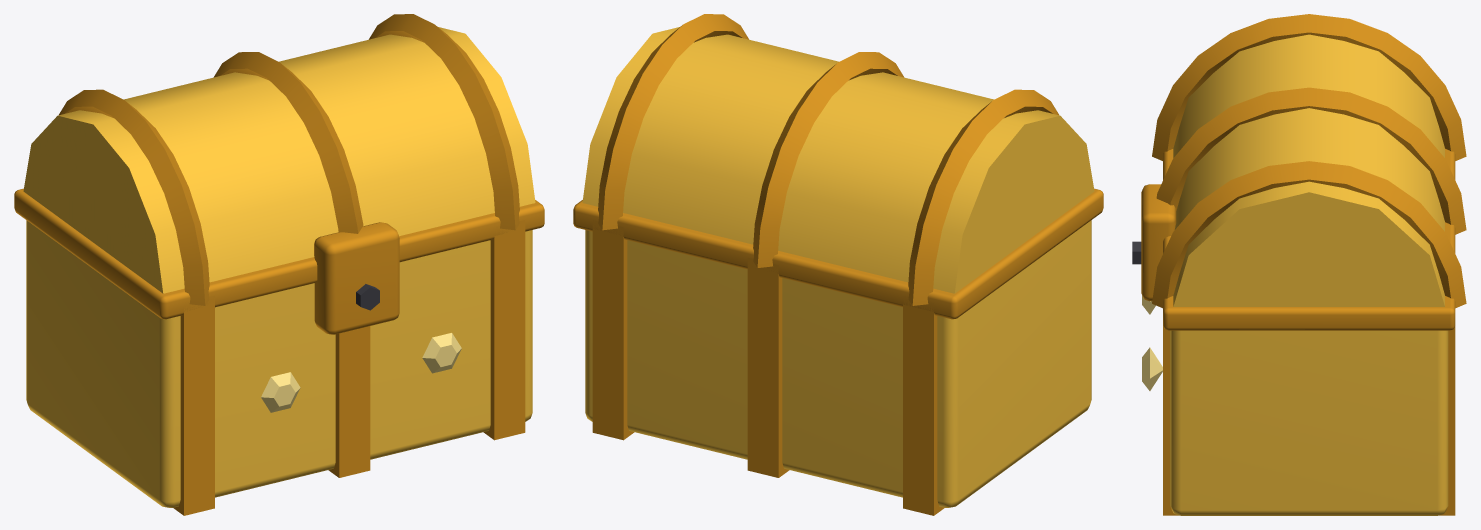
Rendered from GoldChest.fbx.
3 renders of one model, left to right at view 1: azimuth 30°, elevation 25°; view 2: azimuth 150°, elevation 25°; view 3: azimuth 270°, elevation 25°, orthographic. The views are drawn at different scales.
Visible parts, largest first — view 1: GoldChest; view 2: GoldChest; view 3: GoldChest.
Part boxes in pixels (x1,y1,x2,y2): GoldChest: [14, 14, 544, 515]; GoldChest: [573, 14, 1103, 515]; GoldChest: [1132, 14, 1466, 515].
Bounding box in the file's own units: 3.1 × 2.75 × 2.4.
1 material, 1 textured.
